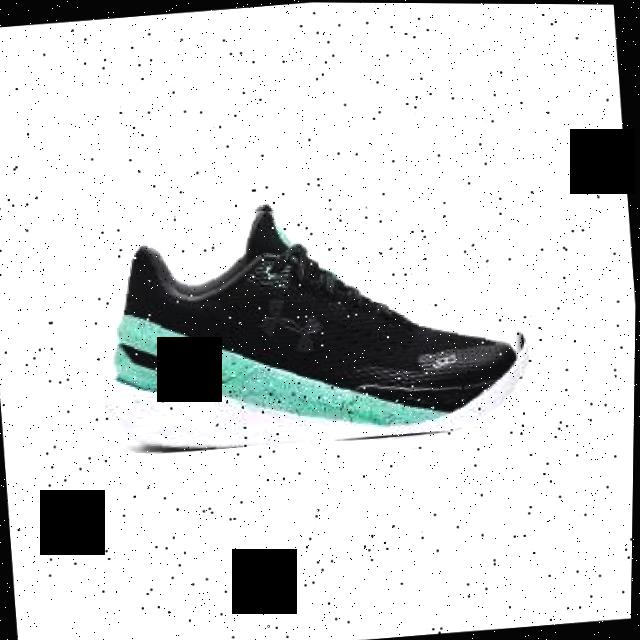shoe: (89, 181, 539, 459)
